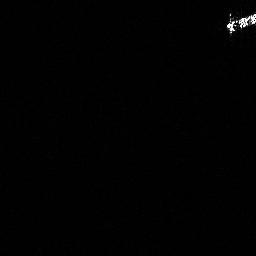ship: (220, 10, 256, 36)
